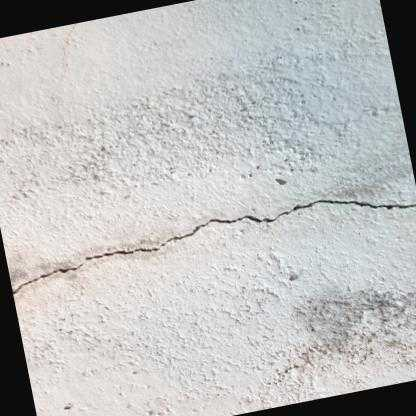crack: (13, 197, 416, 294)
